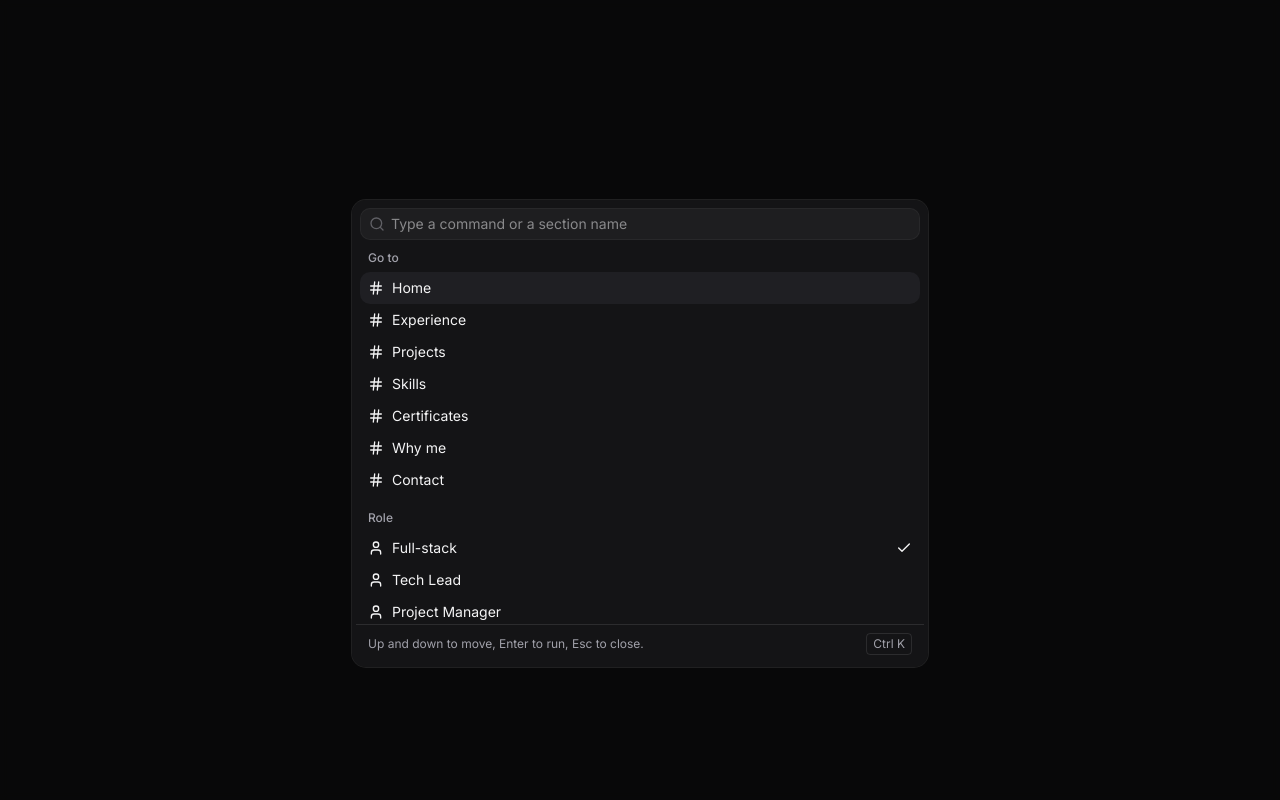
CommandPalette › filters the commands while typing
Type "proj" into the dropdown at {"x": 652, "y": 224}, box [385,214,919,234]
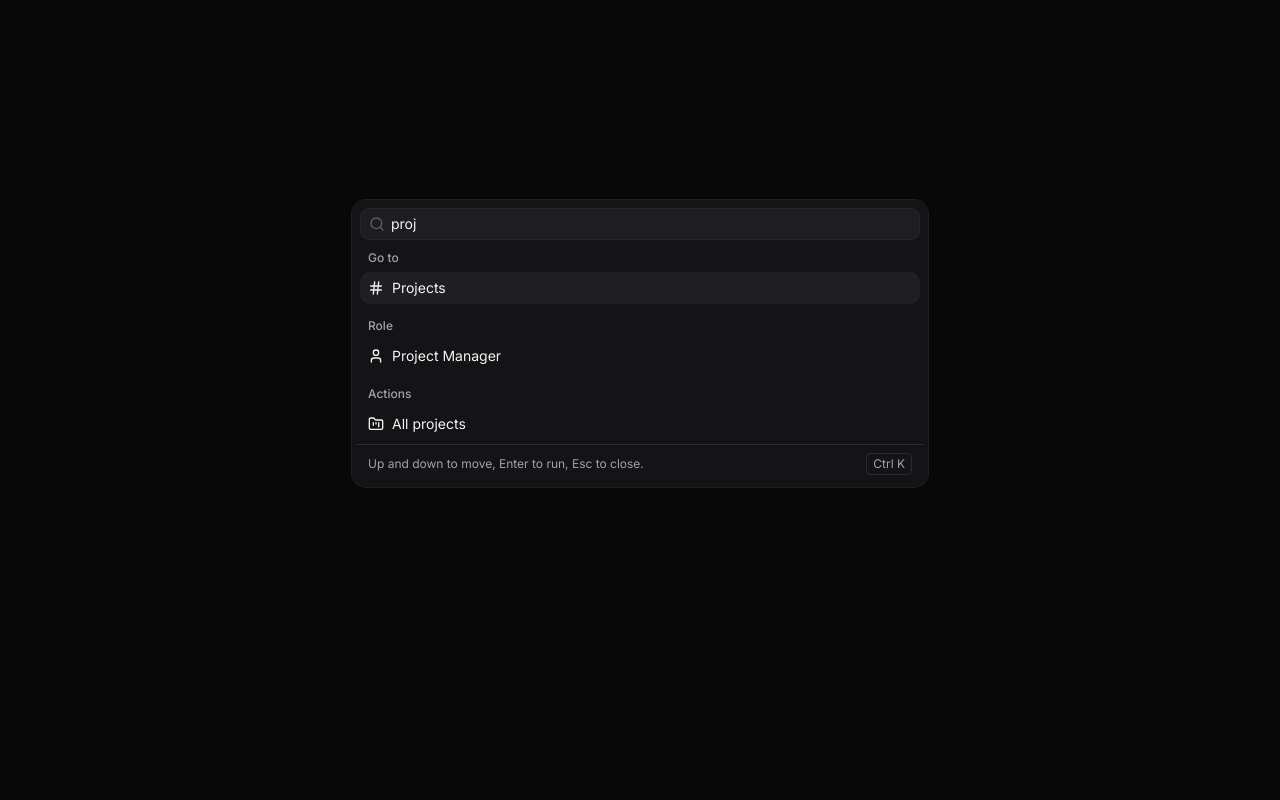
Expected: the option "Projects" is shown, [360,272,920,304]
Result: the option "Experience" is gone
